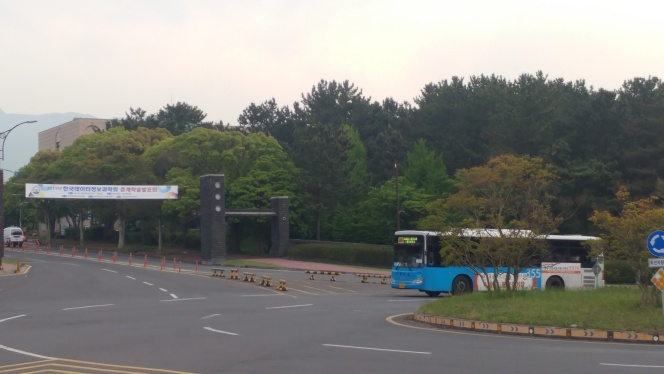Main Gate: (6, 167, 291, 265), (11, 170, 226, 266), (198, 174, 292, 265)
